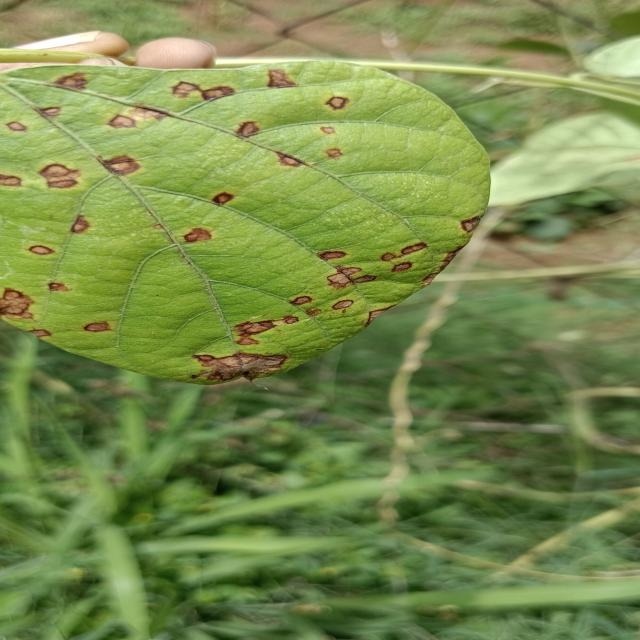Dolicos bean_cercospora leaf spot: (8, 60, 495, 383)
